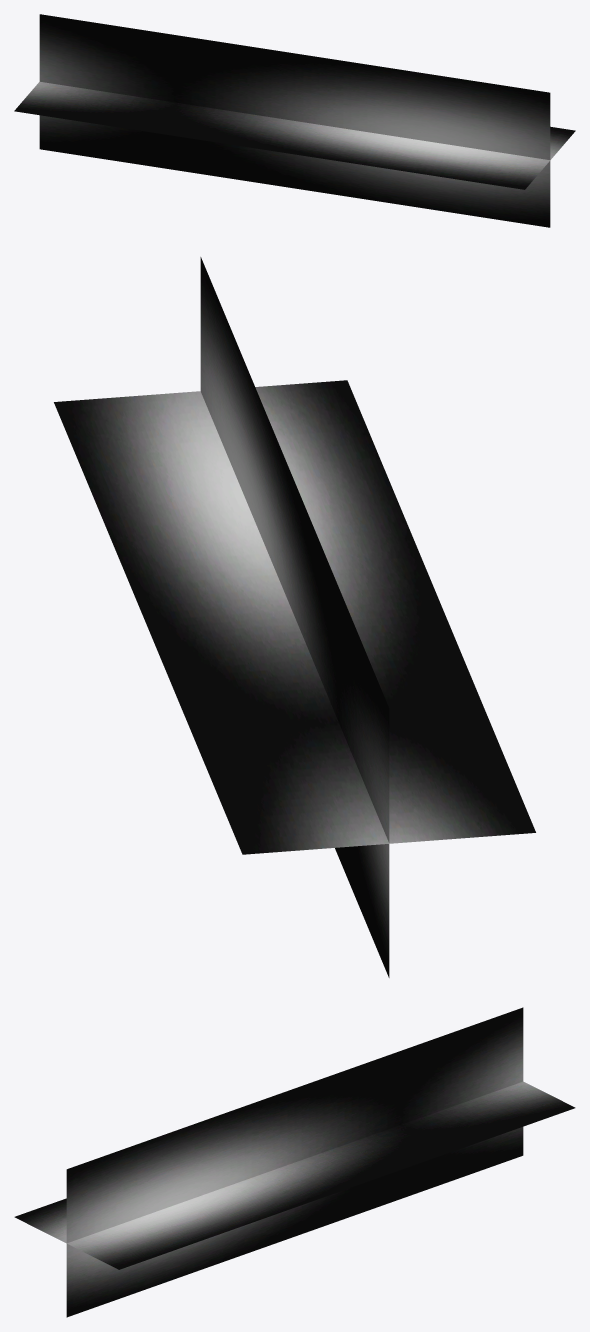
Rendered from vfx_kurp_1140.dae.
3 views of the same model, one above another, from view 1: azimuth 30°, elevation 25°; view 2: azimuth 150°, elevation 25°; view 3: azimuth 270°, elevation 25° (orthographic). The views are drawn at different scales.
Visible parts, largest first — view 1: vfx_kurp_1140; view 2: vfx_kurp_1140; view 3: vfx_kurp_1140.
Boxes of the visible parts, <box> form: vfx_kurp_1140: <box>14,14,575,227</box>; vfx_kurp_1140: <box>54,257,535,977</box>; vfx_kurp_1140: <box>14,1007,575,1317</box>.
Bounding box in the file's own units: 7.18 × 7.94 × 2.31.
1 material, 1 textured.
